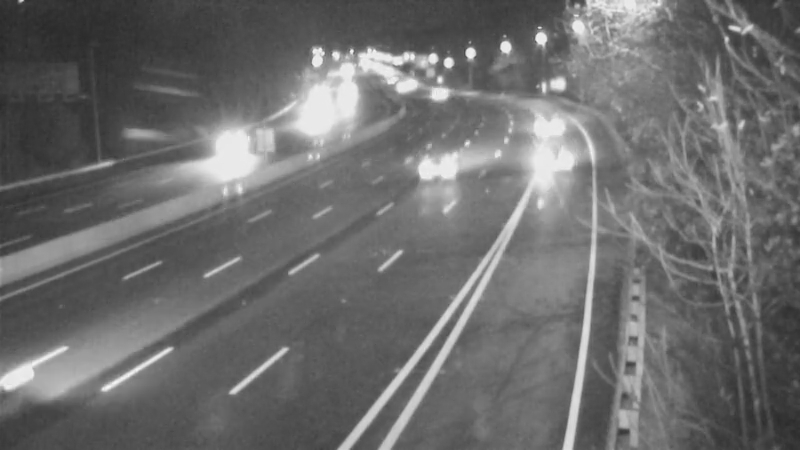vehicle: (516, 120, 596, 200), (408, 132, 488, 212), (192, 112, 272, 192), (410, 66, 460, 116), (516, 109, 566, 159), (288, 93, 338, 143)
